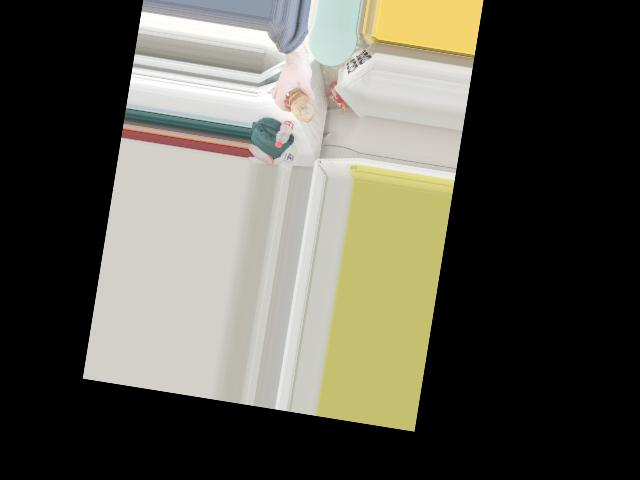sweet_potato: (285, 86, 317, 124)
